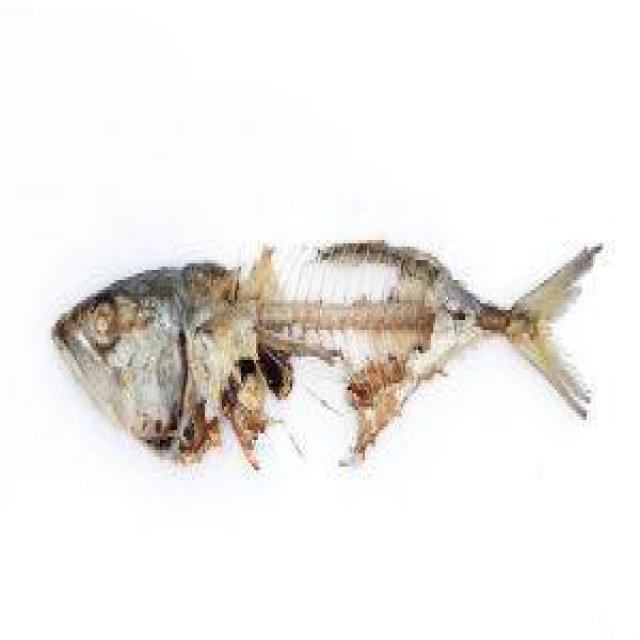organic: (51, 243, 602, 470)
